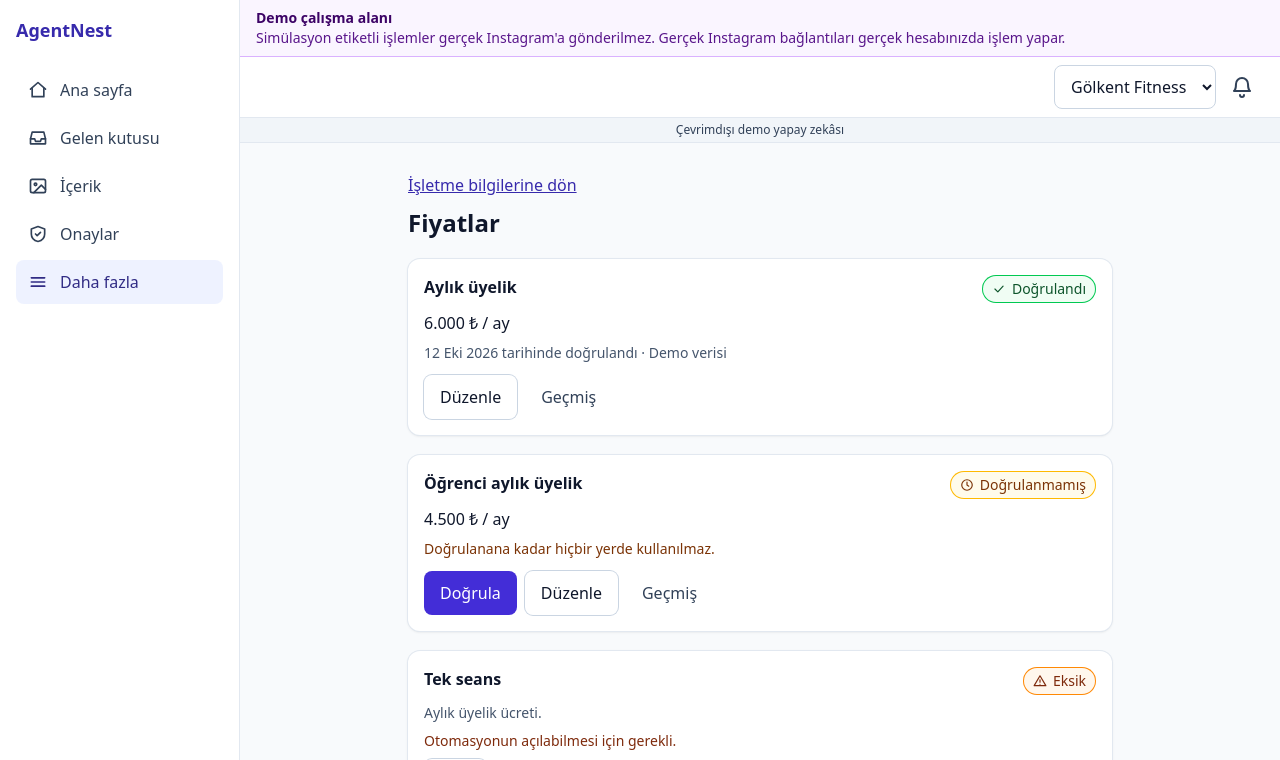
it: fact editor › asks which amount is meant when the notation is unclear, and will not save before an answer
Step 1. Click the button "Düzenle" below "12 Eki 2026 tarihinde doğrulandı" → (471, 397), box [424,375,517,419]
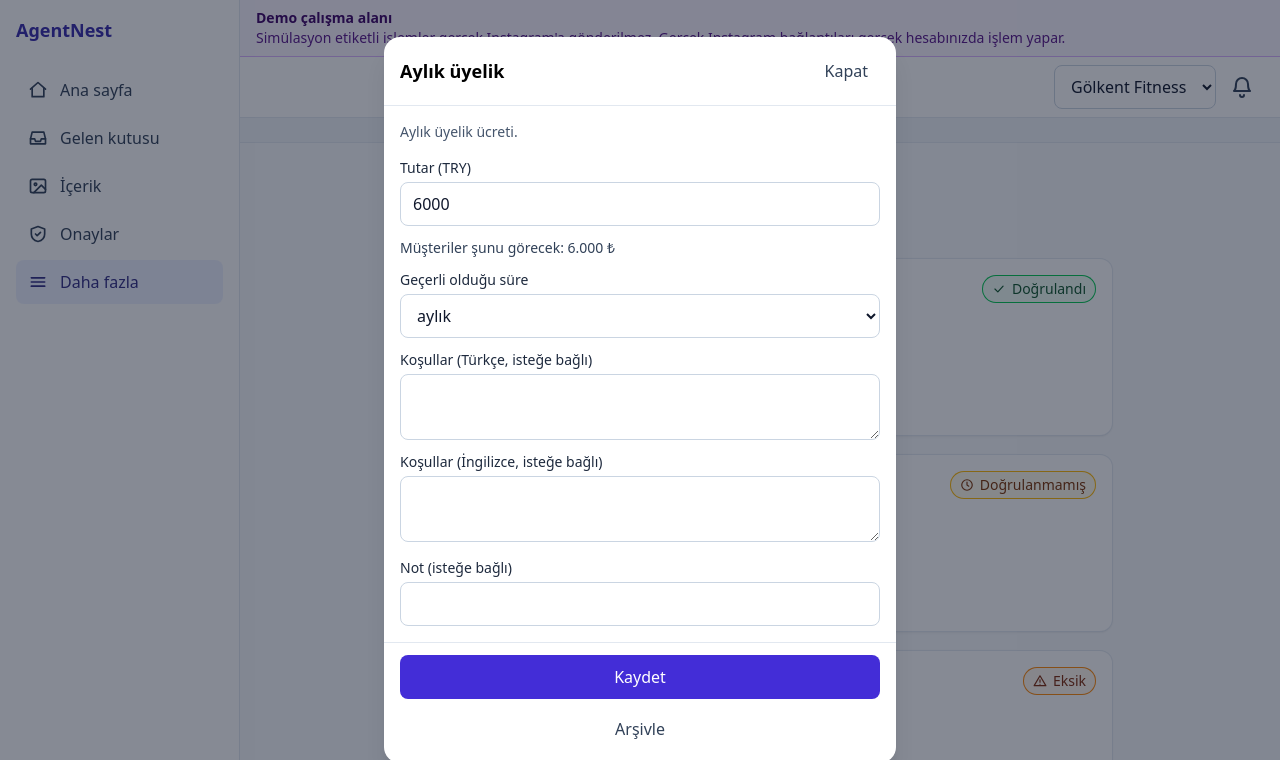
Step 2. Clear the field labelled "Tutar (TRY)" → (640, 204), box [400,182,880,226]
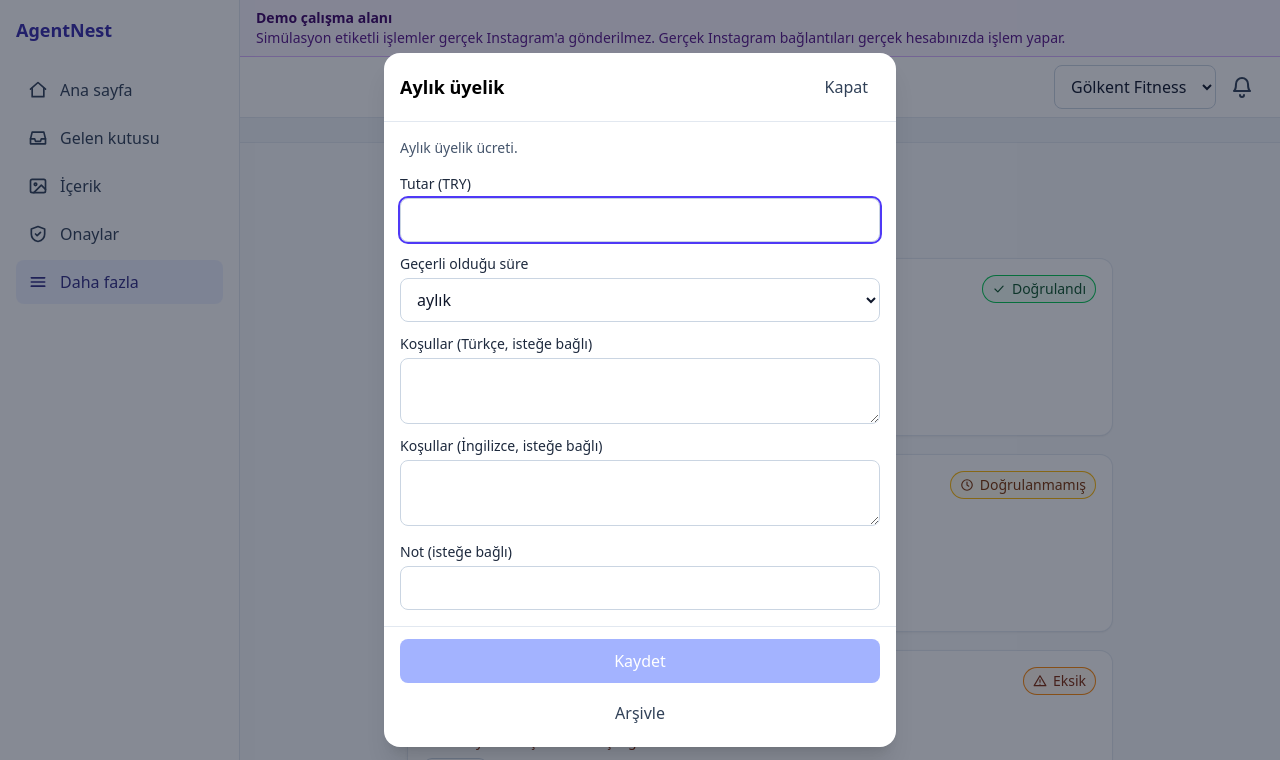
Step 3. Type "7,000" into the field labelled "Tutar (TRY)" → (640, 220), box [400,198,880,242]
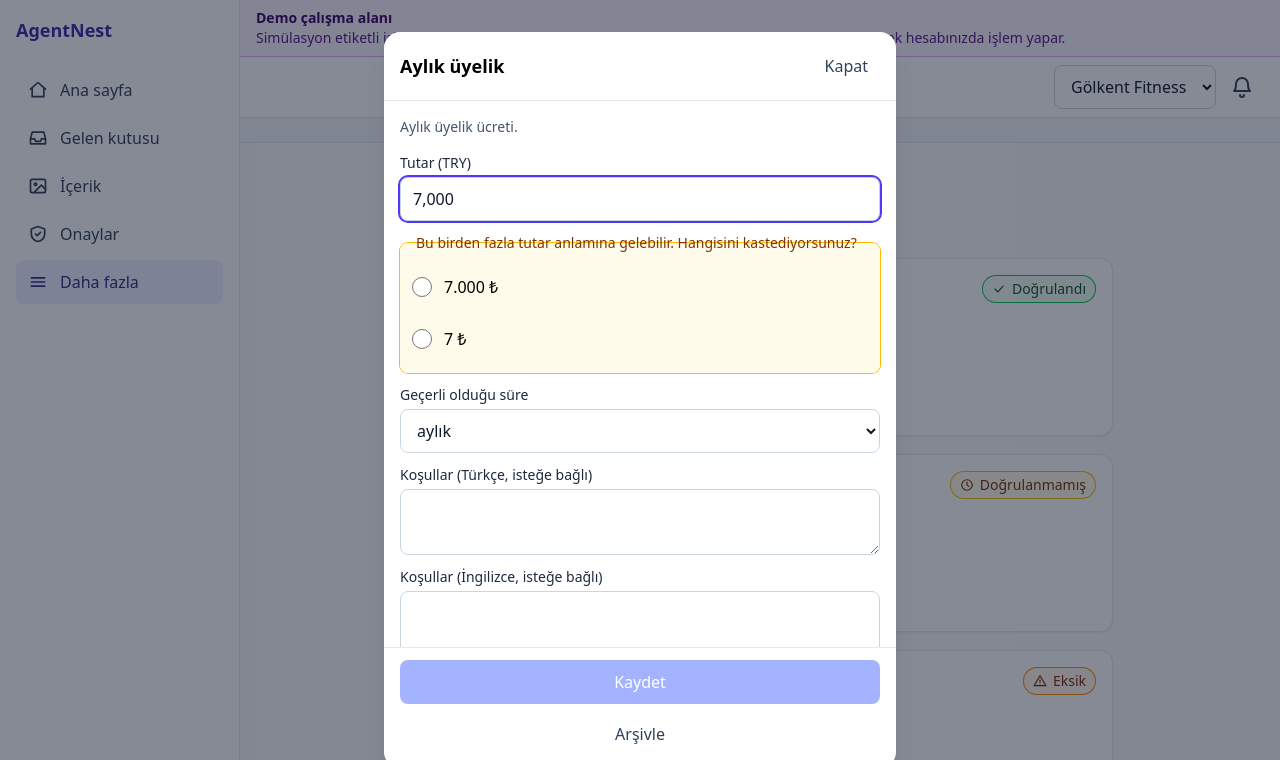
expect the button "Kaydet" is disabled: met, box [400,660,880,704]
expect the text "birden fazla tutar anlamına gelebilir" is shown: met, box [416,233,857,252]
Step 4. Click the radio button labelled "7.000 ₺" → (422, 287), box [412,277,432,297]
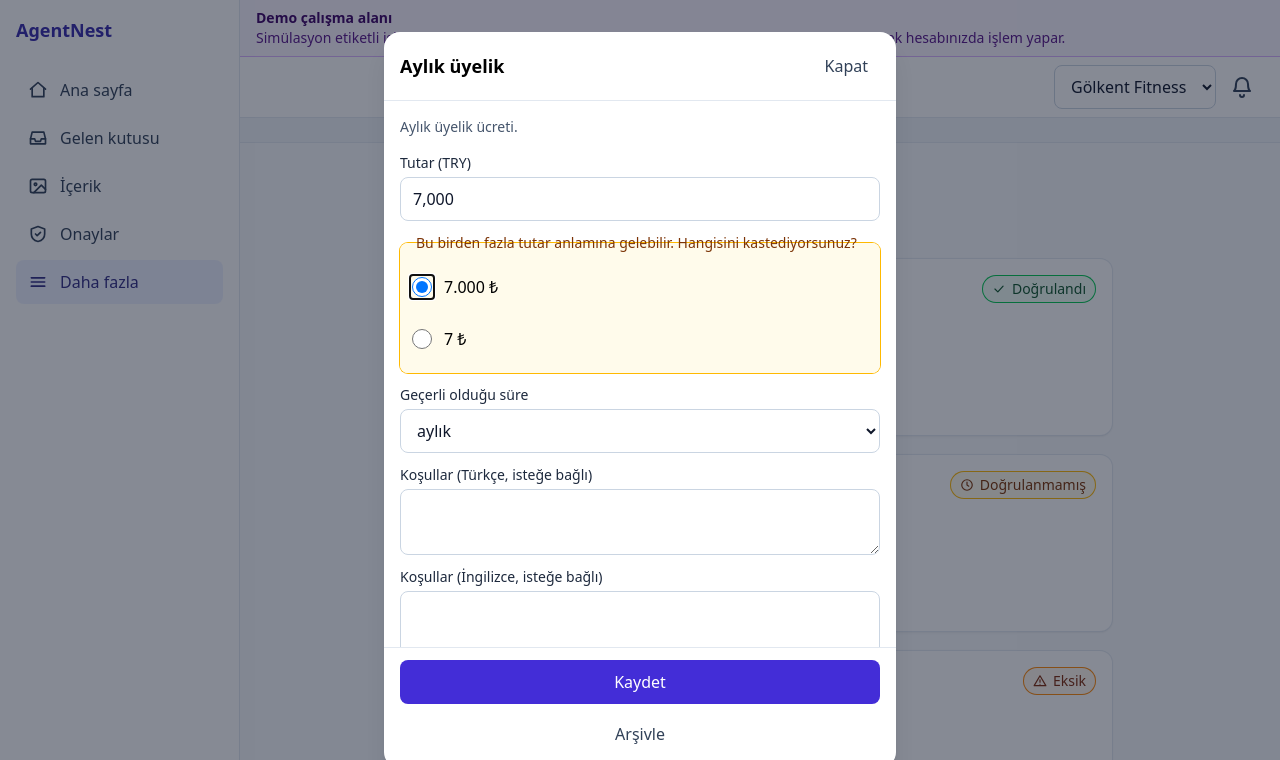
expect the button "Kaydet" is enabled: met, box [400,660,880,704]
